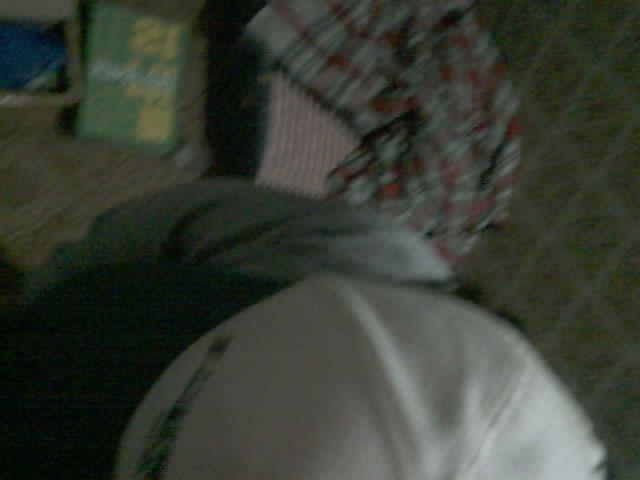cap: (112, 273, 610, 479)
